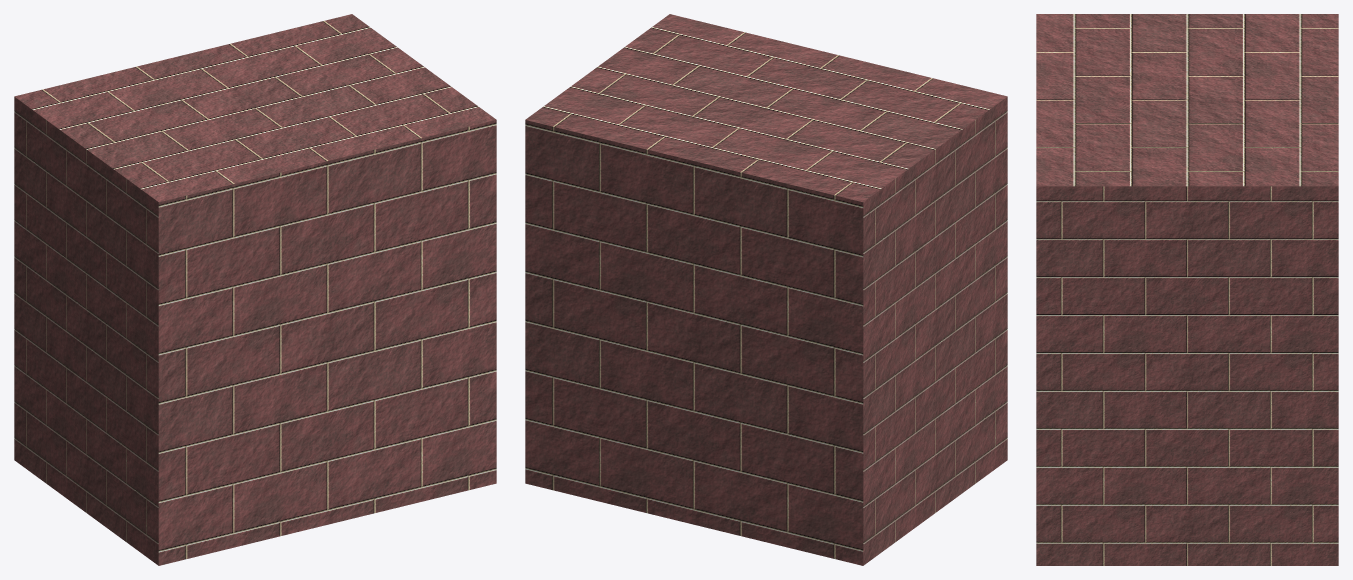
The model's file is test-building.glb.
The picture shows the model from 3 angles, left to right: view 1: azimuth 30°, elevation 25°; view 2: azimuth 150°, elevation 25°; view 3: azimuth 270°, elevation 25°; orthographic projection. The views are drawn at different scales.
Parts seen in each view (by area): view 1: Cube; view 2: Cube; view 3: Cube.
Part boxes in pixels (x1=…): Cube: x1=14, y1=14, x2=496, y2=565; Cube: x1=525, y1=14, x2=1007, y2=565; Cube: x1=1036, y1=14, x2=1338, y2=565.
Bounding box in the file's own units: 8.7 × 8.94 × 6.45.
1 material, 1 textured.
